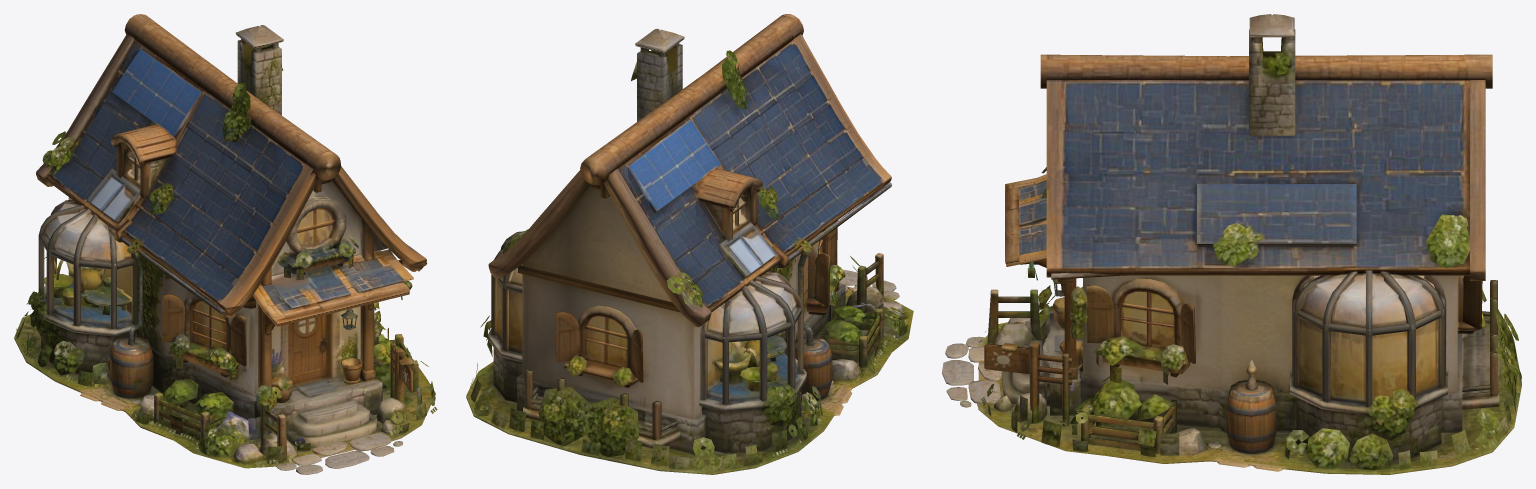
Rendered from solarpunkCottage.glb.
3 renders of one model, left to right at view 1: azimuth 30°, elevation 25°; view 2: azimuth 150°, elevation 25°; view 3: azimuth 270°, elevation 25°, orthographic. The views are drawn at different scales.
Visible parts, largest first — view 1: b04ff718_211e_48f7_86cd_7e90b4698640; view 2: b04ff718_211e_48f7_86cd_7e90b4698640; view 3: b04ff718_211e_48f7_86cd_7e90b4698640.
Boxes of the visible parts, x1,y1,x2,y2 form: b04ff718_211e_48f7_86cd_7e90b4698640: [14, 14, 437, 474]; b04ff718_211e_48f7_86cd_7e90b4698640: [466, 14, 913, 474]; b04ff718_211e_48f7_86cd_7e90b4698640: [942, 14, 1521, 474].
Bounding box in the file's own units: 0.73 × 0.7388 × 0.9995.
Materials: 1 (1 with a texture image).
